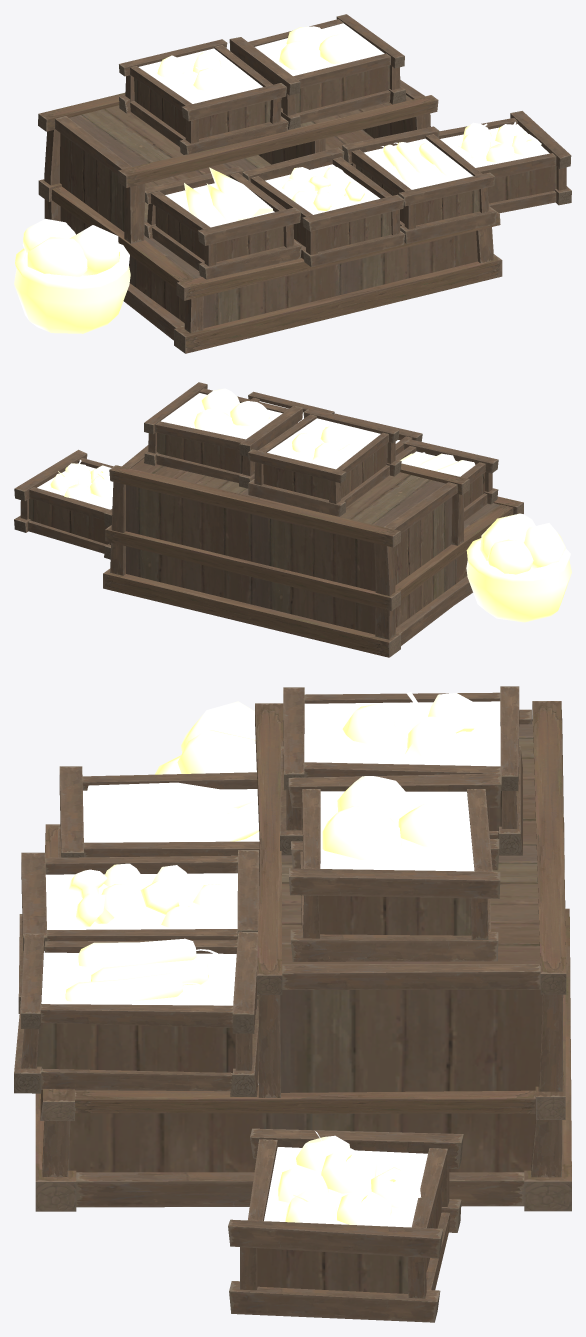
File: Homeworld_Exterior_Ly_Decoration_Varia_03_Lod0.fbx
The picture shows the model from 3 angles, top to bottom: view 1: azimuth 30°, elevation 25°; view 2: azimuth 150°, elevation 25°; view 3: azimuth 270°, elevation 25°; orthographic projection. The views are drawn at different scales.
Parts seen in each view (by area): view 1: Area_Ly_Prop_Common_Varia_C_09_Lod0; view 2: Area_Ly_Prop_Common_Varia_C_09_Lod0; view 3: Area_Ly_Prop_Common_Varia_C_09_Lod0.
Part boxes in pixels (<box>): Area_Ly_Prop_Common_Varia_C_09_Lod0: <box>14,14,571,353</box>; Area_Ly_Prop_Common_Varia_C_09_Lod0: <box>14,382,571,657</box>; Area_Ly_Prop_Common_Varia_C_09_Lod0: <box>14,686,571,1322</box>.
Size of what is drawn, in the model's own units: 4.54 by 1.48 by 2.22.
